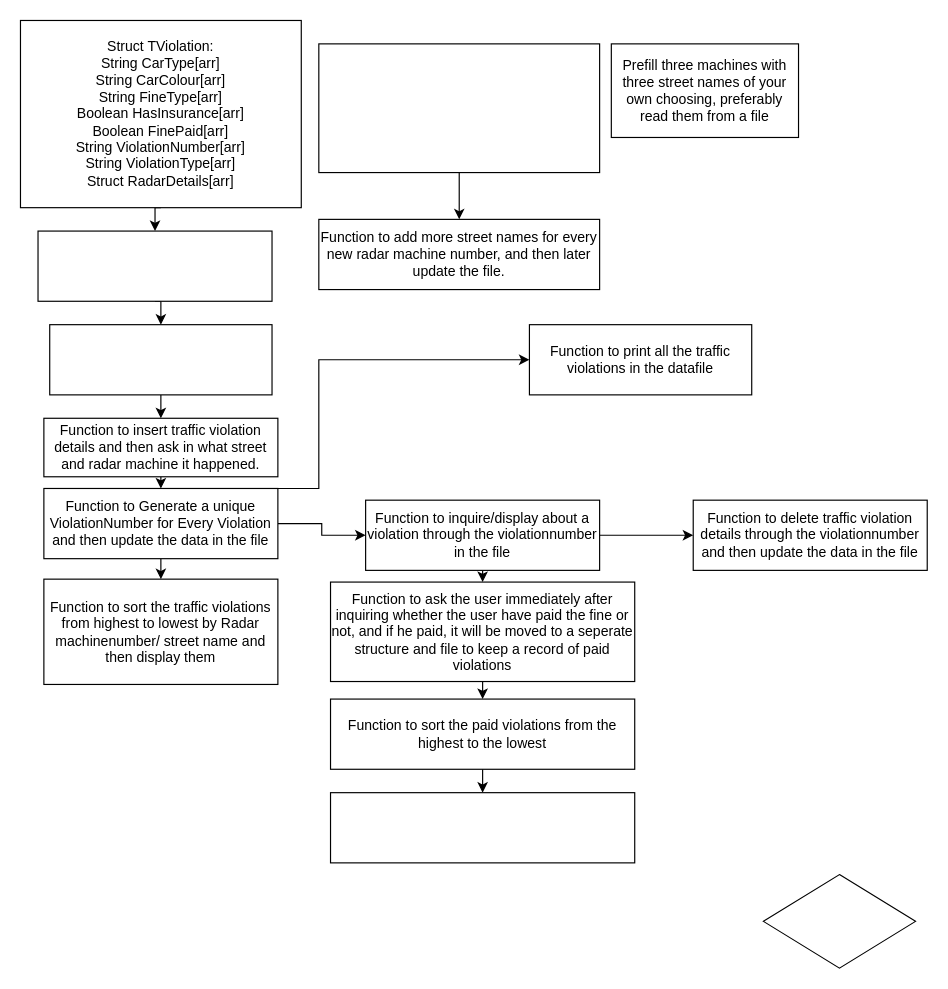
The diagram is 948 pixels wide and 989 high, and some of its shapes have lost their labels. The centre of each missing label's shape, as x and y in pixels:
"Function To show the menu" belongs at pixel 160 359.
"Function to sort the unpaid violations from the highest to the lowest" belongs at pixel 482 827.
"Reading The Data from a file" belongs at pixel 154 265.
"Struct RadarDetails: String StreetAdress: String Radar Machine Number:" belongs at pixel 459 108.
"Update 0.1 2/7/2023" belongs at pixel 839 920.
